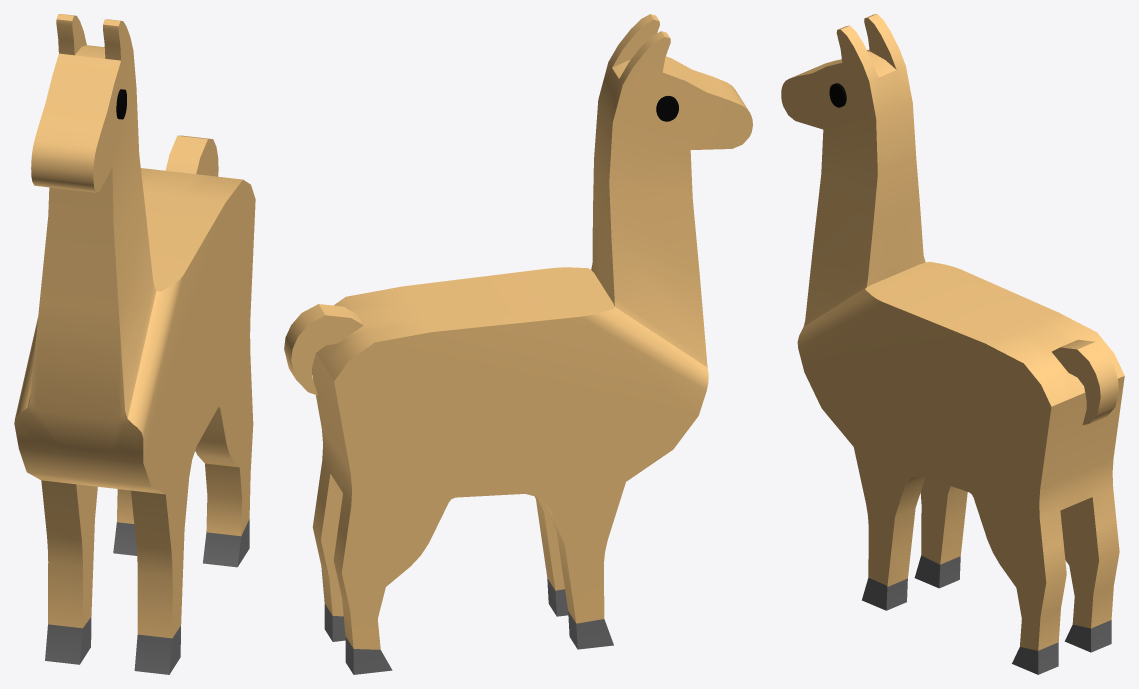
Rendered from llama.glb.
3 renders of one model, left to right at view 1: azimuth 30°, elevation 25°; view 2: azimuth 150°, elevation 25°; view 3: azimuth 270°, elevation 25°, orthographic. The views are drawn at different scales.
Parts seen in each view (by area): view 1: Plane.130; view 2: Plane.130; view 3: Plane.130.
Part boxes in pixels (x1,y1,x2,y2): Plane.130: (14,14,255,674); Plane.130: (284,14,752,674); Plane.130: (781,14,1124,674).
Bounding box in the file's own units: 1.27 × 2.23 × 1.27.
1 material, 1 textured.
